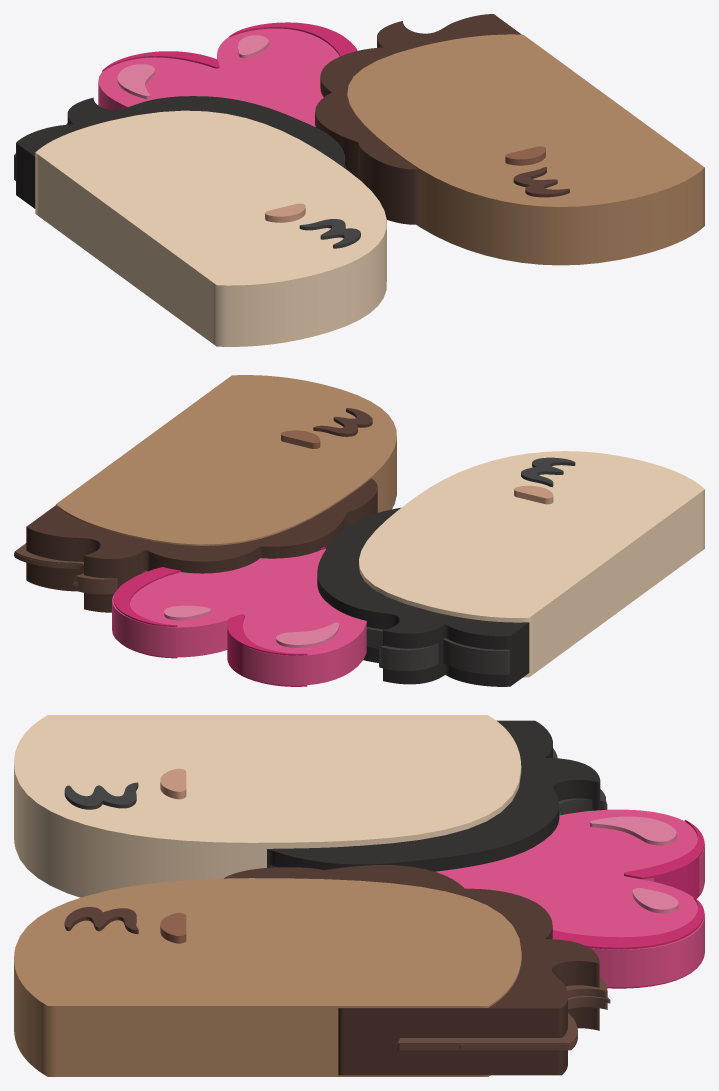
Rendered from emoji_u1f9d1_1f3fb_200d_2764_200d_1f48b_200d_1f9d1_1f3fd.glb.
3 renders of one model, top to bottom at view 1: azimuth 30°, elevation 25°; view 2: azimuth 150°, elevation 25°; view 3: azimuth 270°, elevation 25°, orthographic. The views are drawn at different scales.
Parts seen in each view (by area): view 1: emoji_u1f9d1_1f3fb_200d_2764_200d_1f48b_200d_1f9d1_1f3fd; view 2: emoji_u1f9d1_1f3fb_200d_2764_200d_1f48b_200d_1f9d1_1f3fd; view 3: emoji_u1f9d1_1f3fb_200d_2764_200d_1f48b_200d_1f9d1_1f3fd.
Part boxes in pixels (x1=…): emoji_u1f9d1_1f3fb_200d_2764_200d_1f48b_200d_1f9d1_1f3fd: x1=14, y1=14, x2=704, y2=346; emoji_u1f9d1_1f3fb_200d_2764_200d_1f48b_200d_1f9d1_1f3fd: x1=14, y1=375, x2=704, y2=686; emoji_u1f9d1_1f3fb_200d_2764_200d_1f48b_200d_1f9d1_1f3fd: x1=14, y1=715, x2=704, y2=1076.
Bounding box in the file's own units: 0.0339 × 0.0048 × 0.0336.
